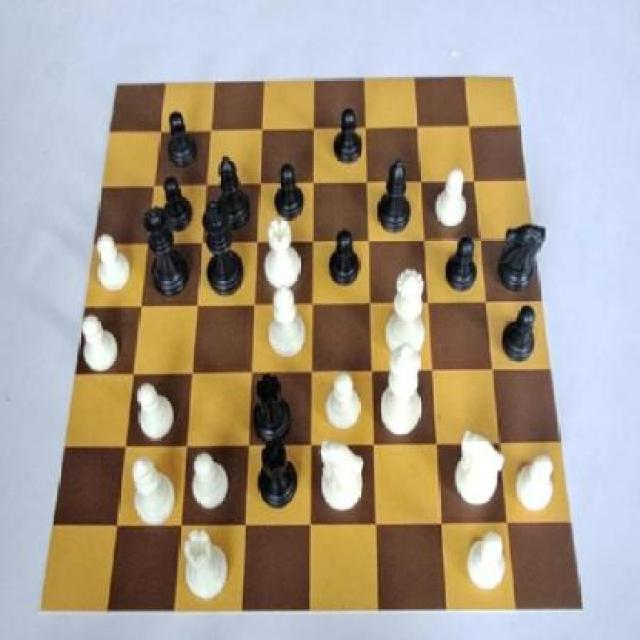bishop: (208, 156, 255, 237), (378, 158, 414, 234)
black-bishop: (202, 198, 248, 304)
black-king: (497, 216, 552, 294)
black-knight: (496, 302, 546, 366), (266, 158, 309, 227), (158, 108, 202, 174), (326, 103, 365, 172), (157, 174, 198, 233), (326, 228, 362, 294), (443, 238, 482, 294)
black-pawn: (138, 209, 192, 300)
black-queen: (254, 438, 303, 514), (251, 374, 296, 448)
black-rook: (129, 452, 180, 537), (262, 288, 310, 363)
white-bishop: (381, 340, 424, 441)
white-king: (451, 429, 503, 512), (315, 440, 370, 515)
white-knight: (511, 446, 561, 522), (321, 363, 367, 445), (462, 526, 508, 599), (136, 380, 182, 448), (76, 312, 124, 375), (429, 168, 474, 232), (191, 448, 235, 512), (94, 236, 131, 300)
white-pawn: (386, 269, 430, 367)
white-queen: (185, 528, 232, 607), (260, 212, 305, 293)
